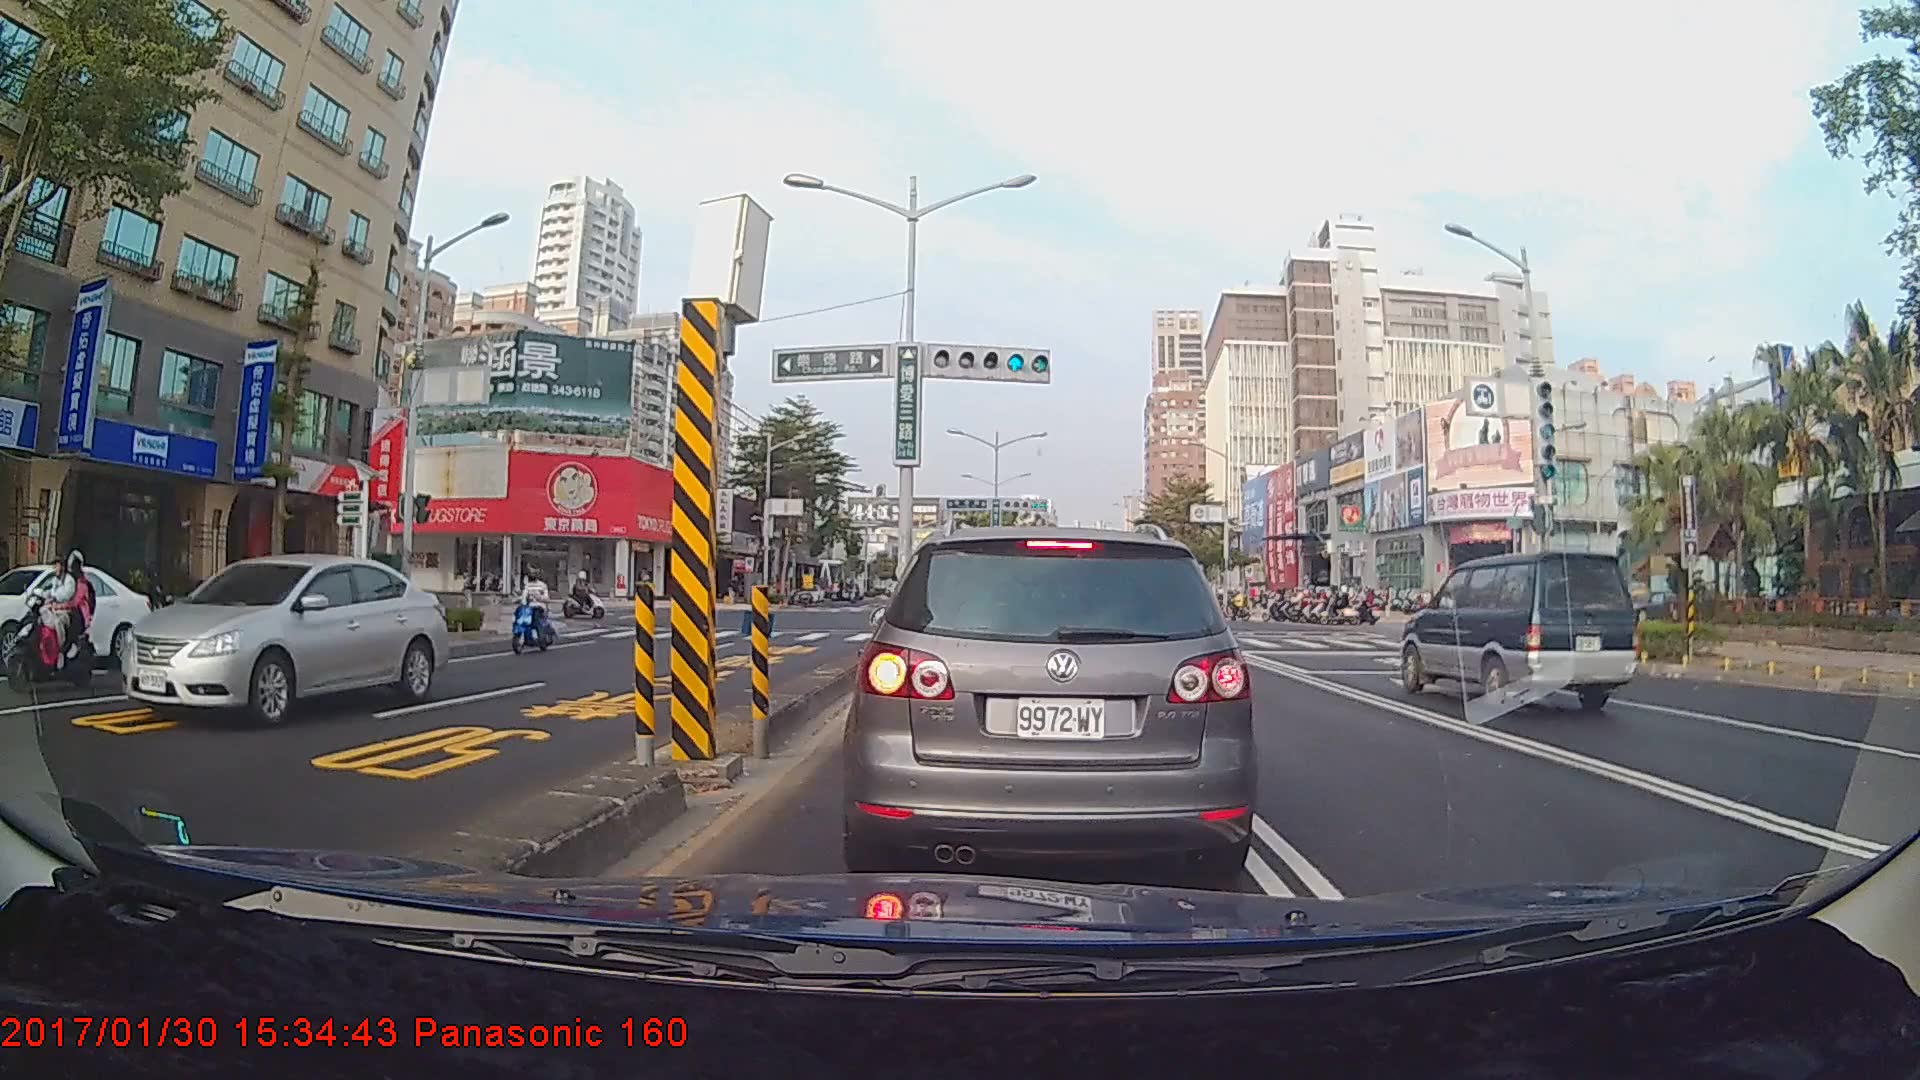rider: (1, 549, 102, 695), (508, 562, 563, 659)
vehicle: (853, 523, 1249, 878), (118, 554, 453, 723), (1398, 548, 1640, 714), (0, 561, 157, 671)
